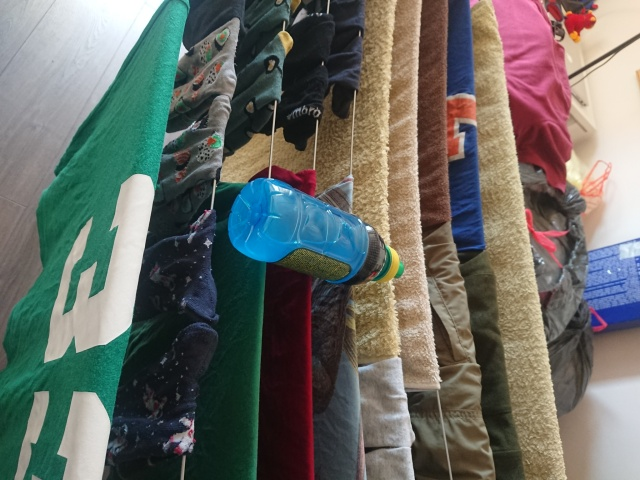Vindi Iso Sport Forest Strawberries 500mL: (225, 175, 405, 287)
